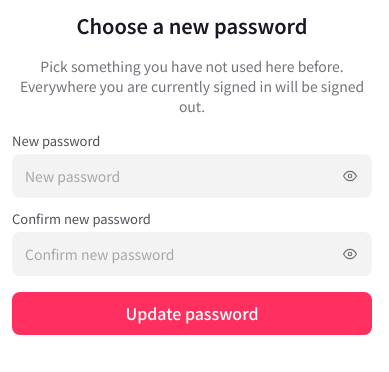
Test case: the password reset page › refuses mismatched passwords before contacting the API
This screenshot has width=389, height=372.
Type "correcthorse" into the password field labelled "New password" at (192, 176), box [12, 154, 372, 198]
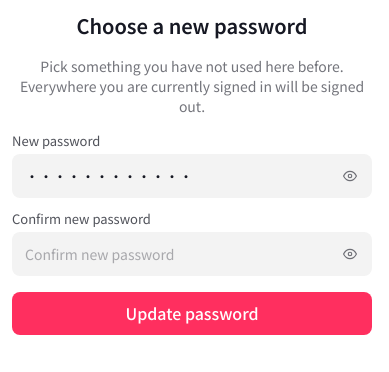
Type "somethingelse" into the password field labelled "Confirm new password" at (192, 254), box [12, 232, 372, 276]
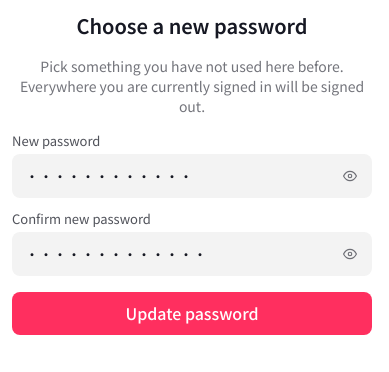
Submit the form, box [12, 132, 372, 335]
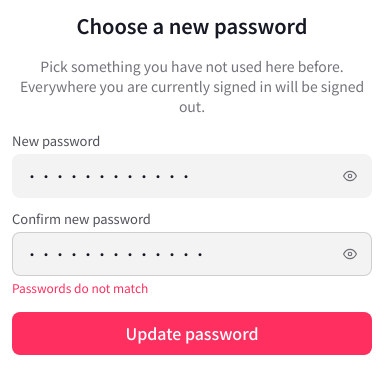
Result: the text "Passwords do not match" is shown at [12, 279, 148, 296]
